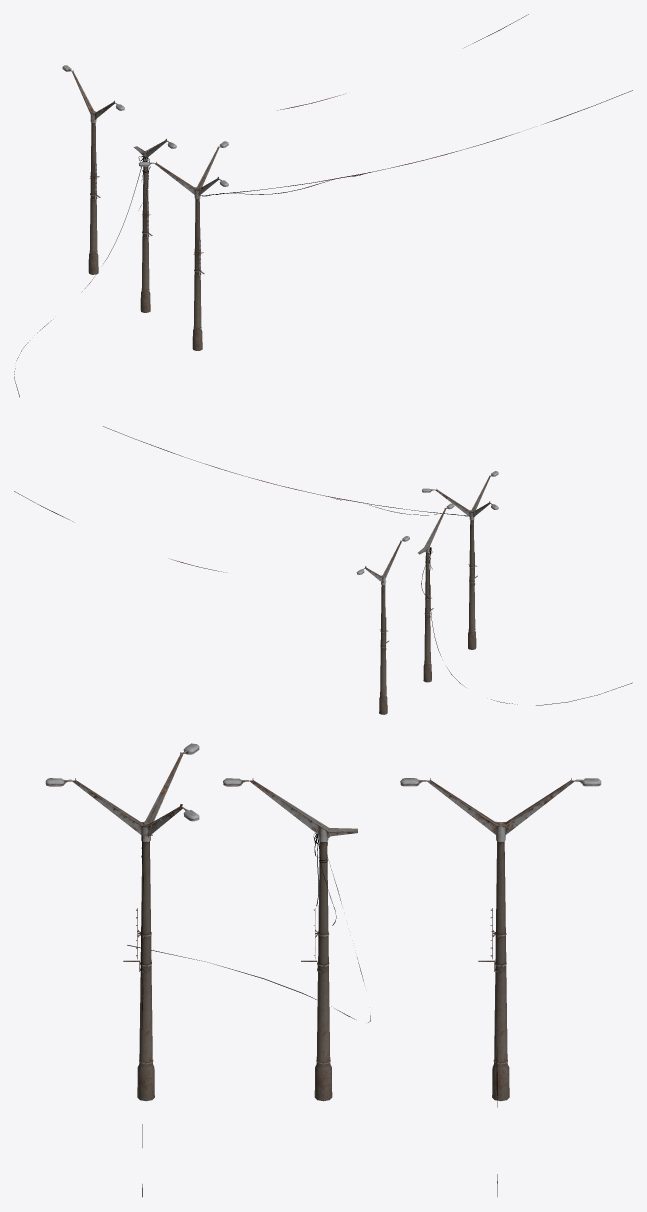
Rendered from light_poles.glb.
3 views of the same model, one above another, from view 1: azimuth 30°, elevation 25°; view 2: azimuth 150°, elevation 25°; view 3: azimuth 270°, elevation 25° (orthographic). The views are drawn at different scales.
Visible parts, largest first — view 1: LightPole_03_1, LightPole_02_0, LightPole_01_2, PowerCable_02_3; view 2: LightPole_03_1, LightPole_02_0, LightPole_01_2, PowerCable_02_3; view 3: LightPole_03_1, LightPole_02_0, LightPole_01_2.
Part boxes in pixels (x1,y1,x2,y2): LightPole_03_1: (138,141,228,350); LightPole_02_0: (62,65,124,274); LightPole_01_2: (134,138,176,312); PowerCable_02_3: (200,90,632,196); LightPole_03_1: (422,471,498,649); LightPole_02_0: (356,536,409,714); LightPole_01_2: (418,503,454,682); PowerCable_02_3: (103,426,468,516); LightPole_03_1: (45,743,199,1101); LightPole_02_0: (400,778,601,1101); LightPole_01_2: (223,778,357,1101).
Size of the model in its own units: 34.28 by 10.05 by 15.66.
2 materials, 1 textured.
